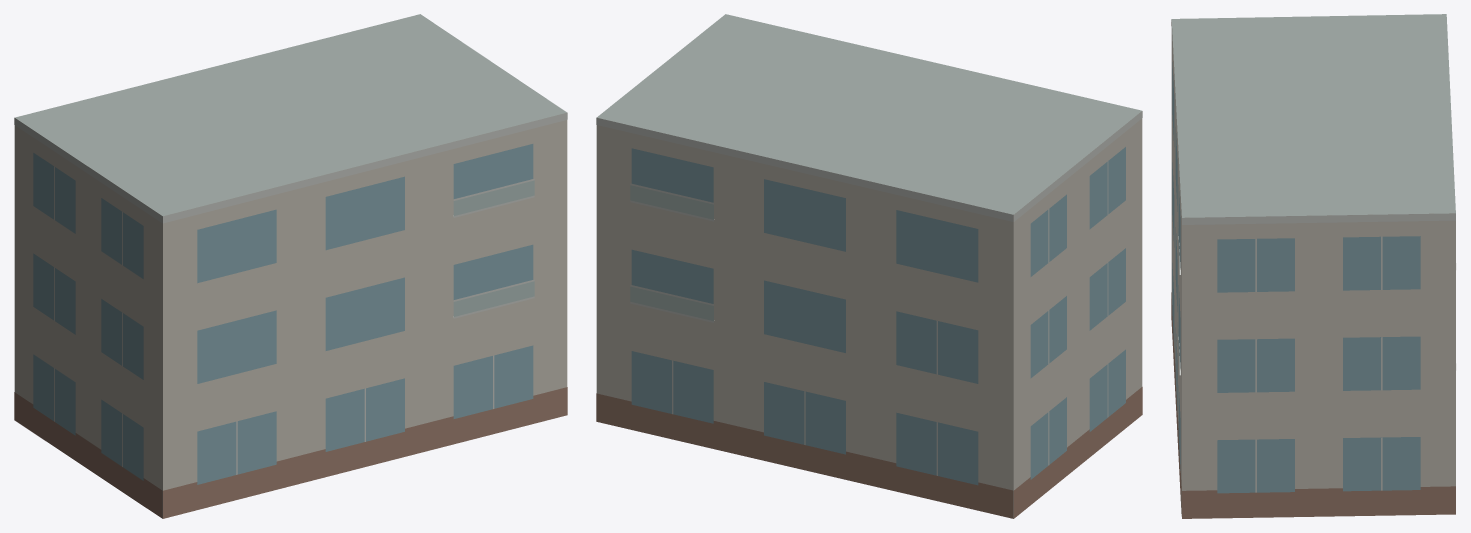
File: survey-upis-32599954.glb
3 views of the same model, side by side, from view 1: azimuth 30°, elevation 25°; view 2: azimuth 150°, elevation 25°; view 3: azimuth 270°, elevation 25° (orthographic).
Visible parts, largest first — view 1: survey-upis-32599954.tmp; view 2: survey-upis-32599954.tmp; view 3: survey-upis-32599954.tmp.
Boxes of the visible parts, bbox=[...] form: survey-upis-32599954.tmp: bbox=[14, 14, 567, 518]; survey-upis-32599954.tmp: bbox=[596, 14, 1142, 518]; survey-upis-32599954.tmp: bbox=[1171, 14, 1456, 518].
Size of the model in its own units: 14.82 by 10.2 by 8.75.
